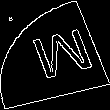M_S: (18, 23, 92, 87)
